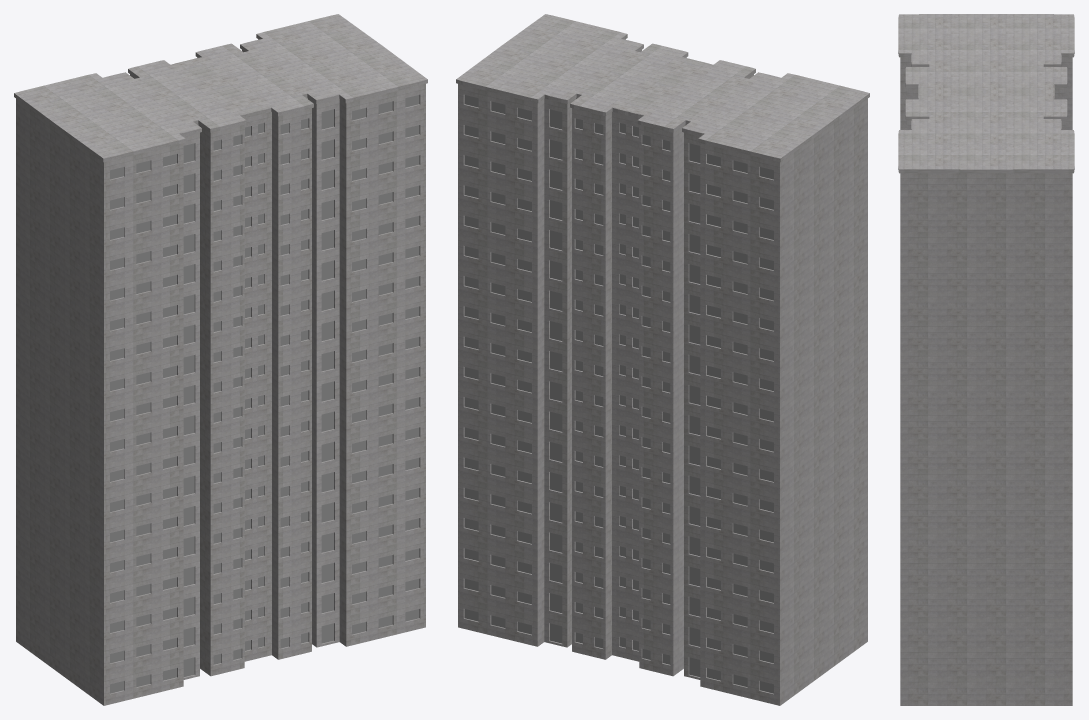
The model's file is BLD-27.FBX.
3 renders of one model, left to right at view 1: azimuth 30°, elevation 25°; view 2: azimuth 150°, elevation 25°; view 3: azimuth 270°, elevation 25°, orthographic. The views are drawn at different scales.
Visible parts, largest first — view 1: Plane042; view 2: Plane042; view 3: Plane042.
Part boxes in pixels (box(x1,y1,x2,y2)): Plane042: box(14, 14, 427, 705); Plane042: box(456, 14, 869, 705); Plane042: box(898, 14, 1074, 705).
Size of the model in its own units: 26.72 by 43.02 by 12.78.
